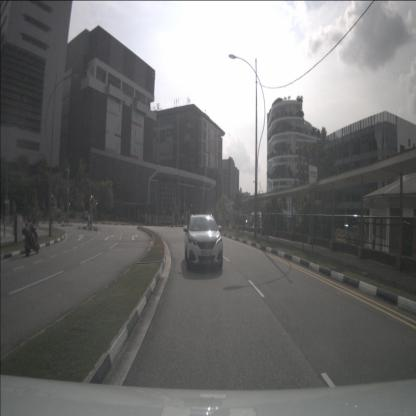vehicle-car: (184, 214, 222, 270)
vehicle-motorcycle: (22, 216, 40, 257)
